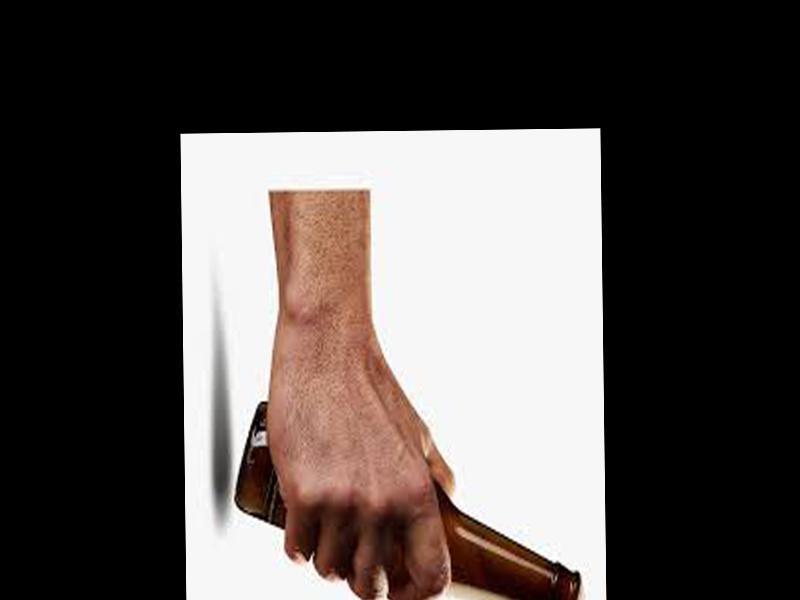Beer: (228, 397, 579, 600)
